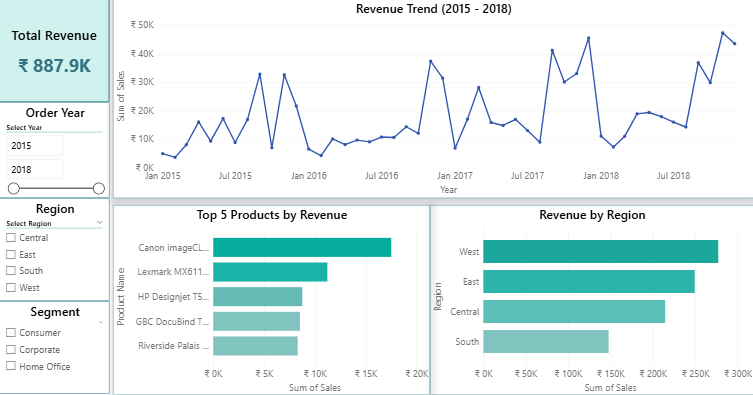

The page's visual inventory and layout, read from the dashboard file:
{"tool":"powerbi","page":{"name":"Sales Overview","canvas":[1641,860],"ordinal":0},"visuals":[{"type":"cardVisual","title":"Total Revenue","fields":{"Data":["Sum(superstore_processed.Sales)"]},"box":[0,0,240.7,224.1],"z":0},{"type":"lineChart","title":"Revenue Trend (2015 - 2018)","fields":{"Category":["superstore_processed.Order Date.Variation.Date Hierarchy.Year","superstore_processed.Order Date.Variation.Date Hierarchy.Month"],"Y":["Sum(superstore_processed.Sales)"]},"box":[247.8,0,1393.5,432.6],"z":1000},{"type":"clusteredBarChart","title":"Revenue by Region","fields":{"Category":["superstore_processed.Region"],"Y":["Sum(superstore_processed.Sales)"]},"box":[937,447.8,704.3,413],"z":2000},{"type":"clusteredBarChart","title":"Top 5 Products by Revenue","fields":{"Category":["superstore_processed.Product Name"],"Y":["Sum(superstore_processed.Sales)"]},"box":[247.8,447.8,689.1,413],"z":3000},{"type":"slicer","title":"Region","fields":{"Values":["superstore_processed.Region"]},"box":[0,433.3,240.7,224.1],"z":4000},{"type":"slicer","title":"Segment","fields":{"Values":["superstore_processed.Segment"]},"box":[0,657.4,240.7,201.9],"z":5000},{"type":"slicer","title":"Order Year","fields":{"Values":["superstore_processed.Order Year"]},"box":[0,224.1,240.7,209.3],"z":6000}]}

Visuals, with their boxes in screenshot pixels (x1, y1, x2, y2), scaled from the page's 1641x860 canvas onto the 753x395 screenshot:
"Total Revenue" cardVisual: region(0, 0, 110, 103)
"Revenue Trend (2015 - 2018)" lineChart: region(114, 0, 752, 199)
"Revenue by Region" clusteredBarChart: region(430, 206, 752, 394)
"Top 5 Products by Revenue" clusteredBarChart: region(114, 206, 430, 394)
"Region" slicer: region(0, 199, 110, 302)
"Segment" slicer: region(0, 302, 110, 394)
"Order Year" slicer: region(0, 103, 110, 199)
